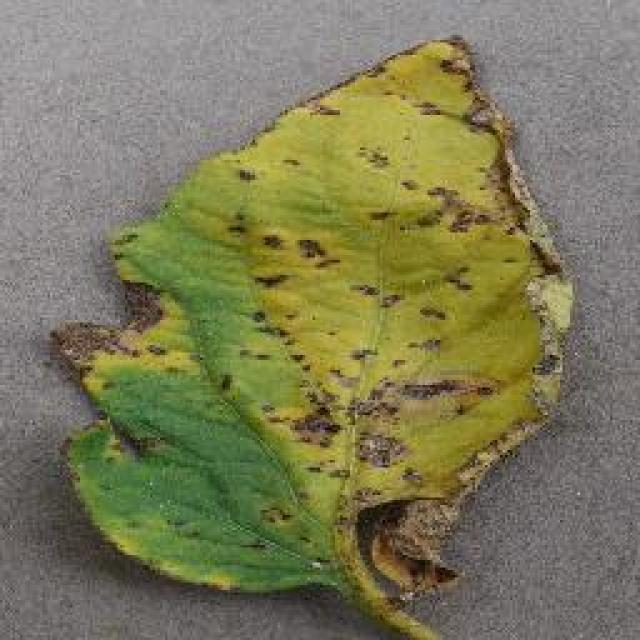Tomato bacterial spot leaf: (49, 35, 579, 630)
